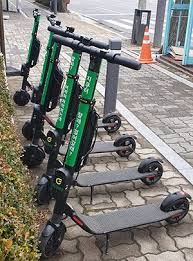kick_body: (82, 170, 141, 183)
kick_handler: (52, 36, 141, 68), (32, 8, 40, 23)
kick_neck: (24, 26, 37, 81)
kick_wheel: (41, 222, 64, 255), (162, 195, 188, 222), (23, 144, 46, 168), (140, 157, 161, 183), (115, 134, 138, 155), (103, 112, 122, 131), (13, 91, 30, 104)
